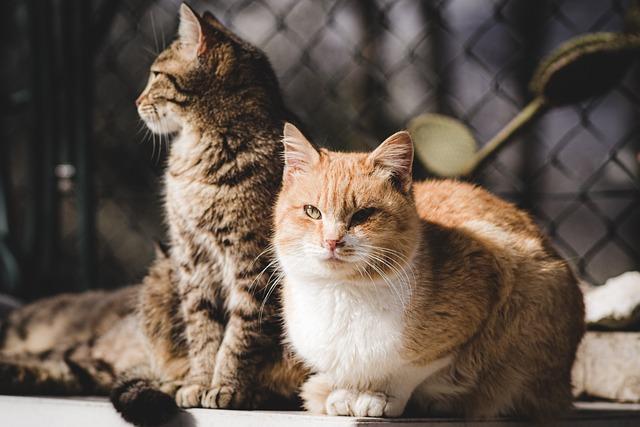Non_Gorille: (4, 1, 640, 421)
